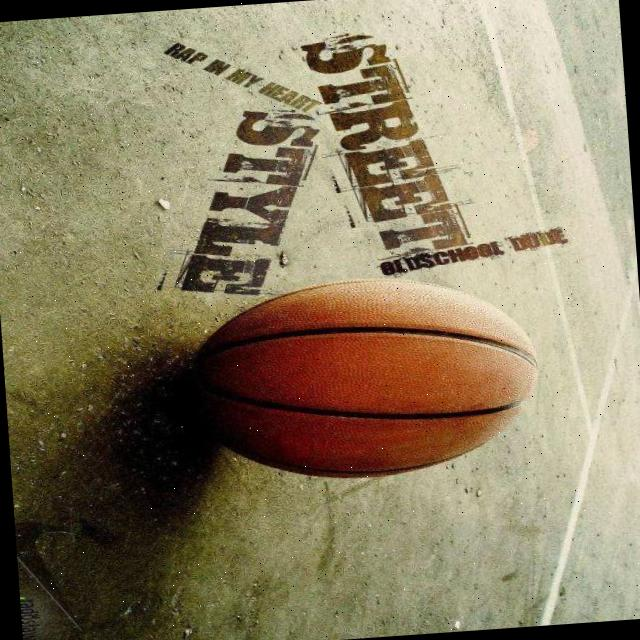ball: (192, 267, 542, 488)
